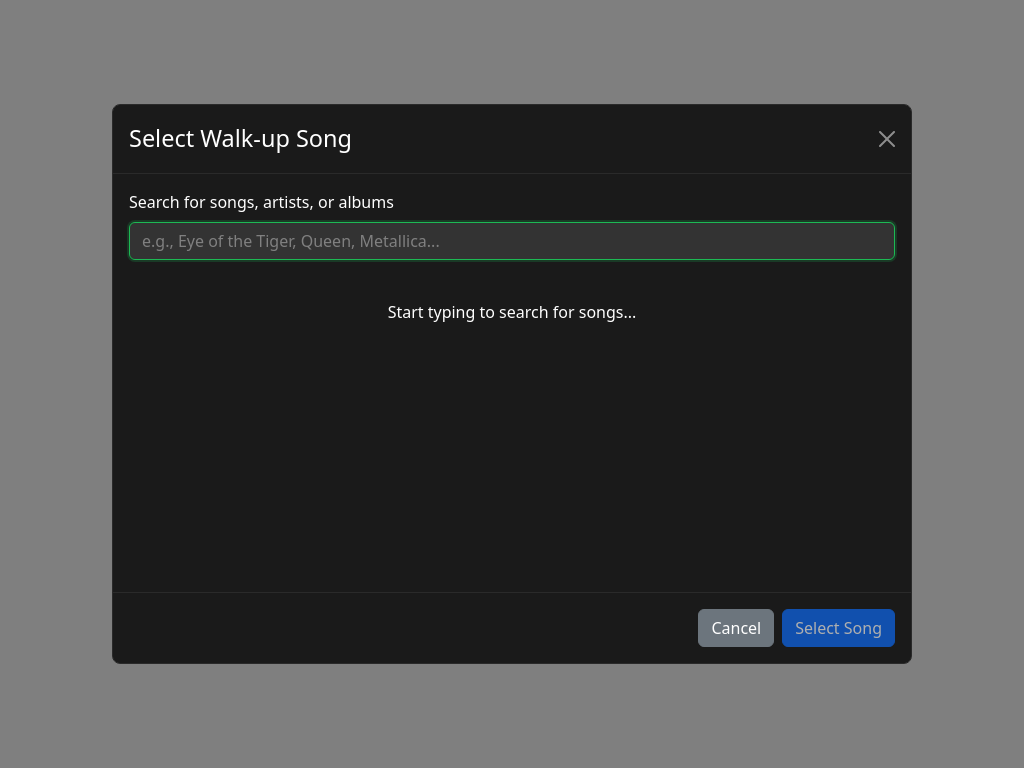
Test case: SongSelector › should handle search errors gracefully
Type "test" into the field labelled "Search for songs, artists, or albums" at point(512, 241), box [129, 222, 895, 260]
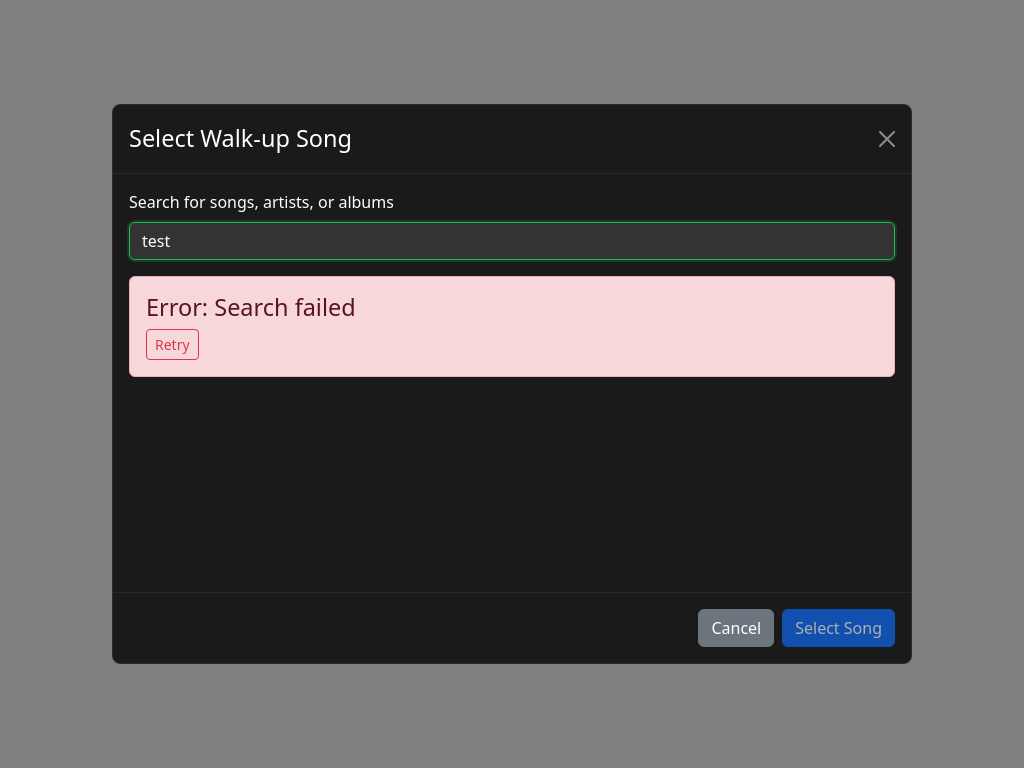
Expected: the text "Error: Search failed" is shown, [146, 291, 356, 323]
